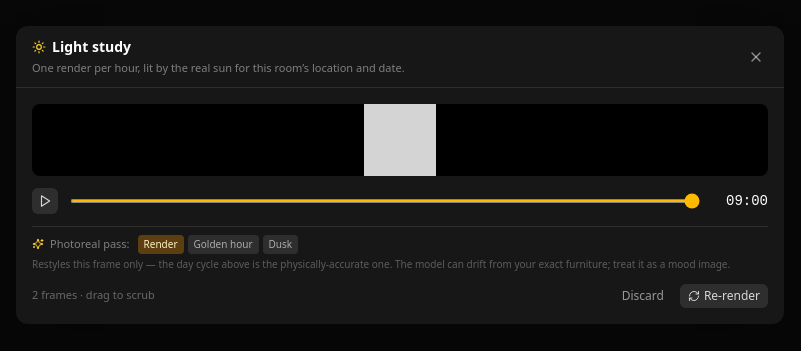
it: LightStudyPanel photoreal pass › surfaces a failure inline instead of throwing
Click the button "Golden hour" at (223, 244), box [188,235,258,254]
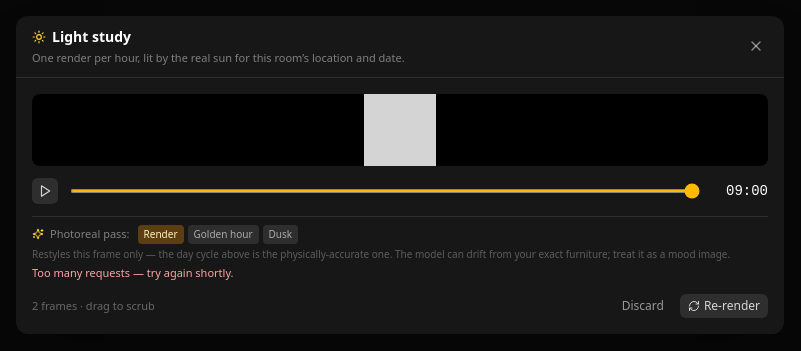
Result: the text "Too many requests — try again shortly." is shown at [32,265,234,280]
